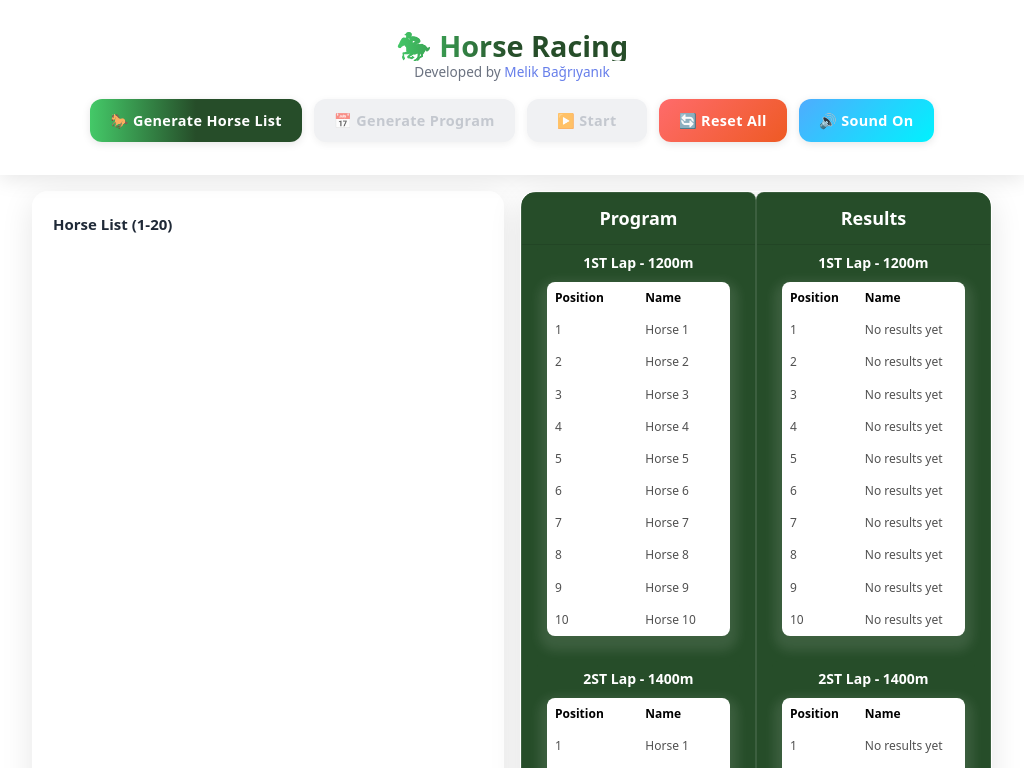
Test: Hızlı E2E Testleri › yarış başlatılabilmeli
# Yarış başlatma testi
Click the button "🐎 Generate Horse List".
click(197, 121)  # box [91,99,302,142]
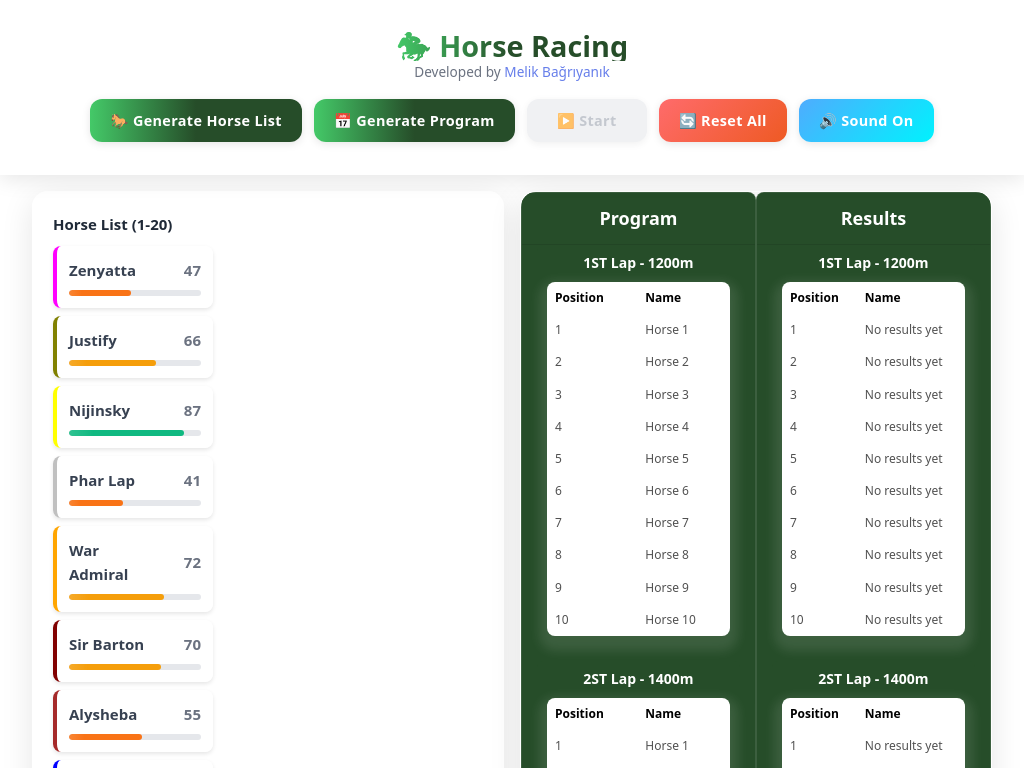
Click the button "📅 Generate Program".
click(415, 121)  # box [314,99,515,142]
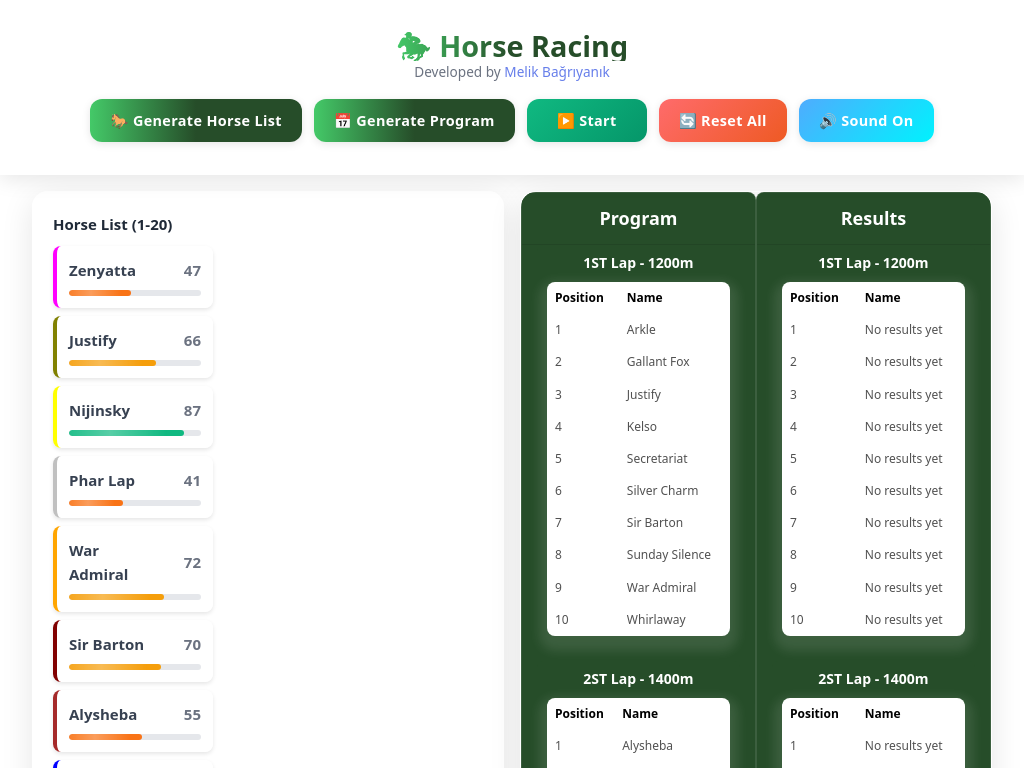
Click the button "▶️ Start".
click(587, 121)  # box [527,99,647,142]
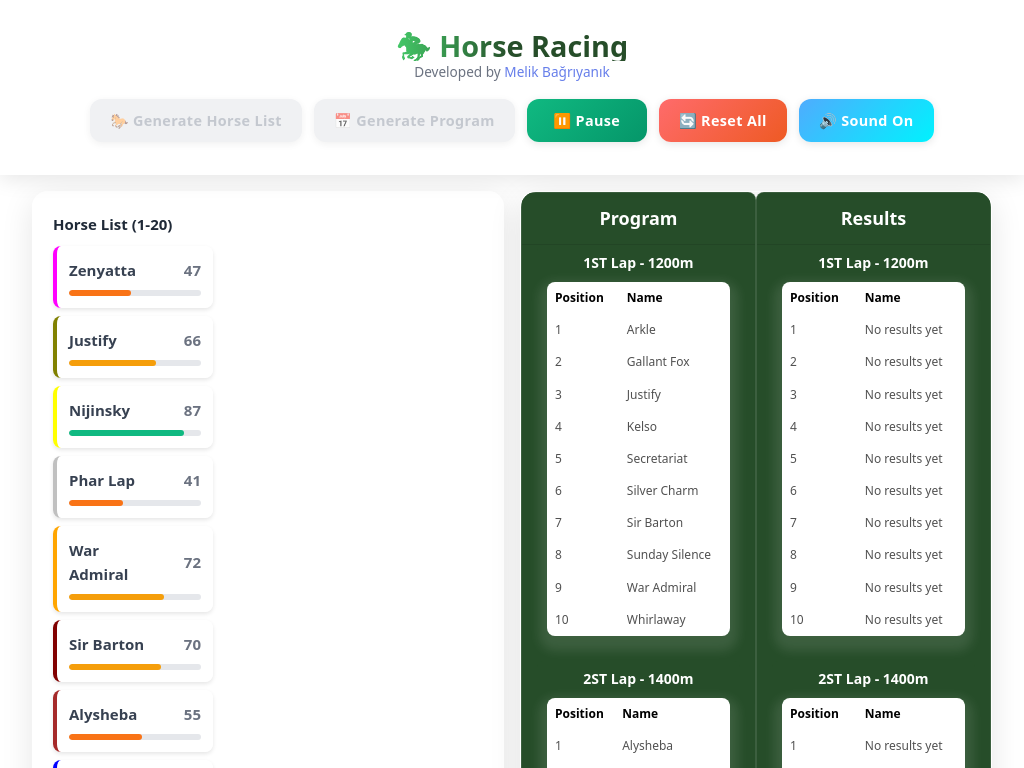
Check: the button "⏸️ Pause" is shown, box [527,98,647,142]
